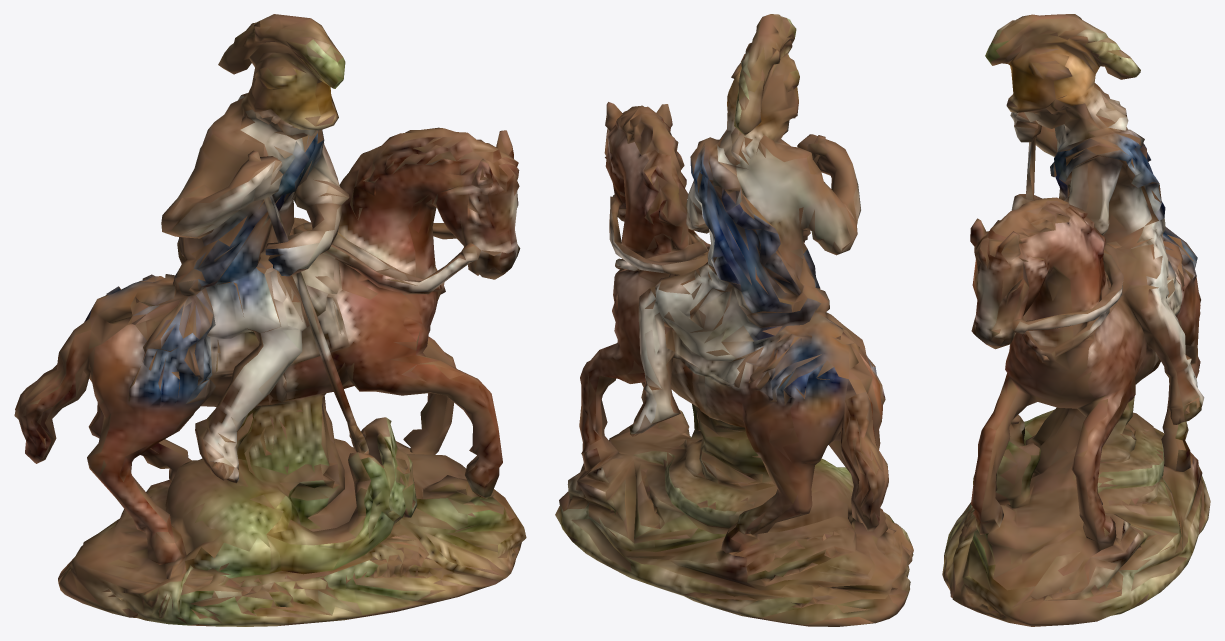
Rendered from st-george-20177414.glb.
The picture shows the model from 3 angles, left to right: view 1: azimuth 30°, elevation 25°; view 2: azimuth 150°, elevation 25°; view 3: azimuth 270°, elevation 25°; orthographic projection. The views are drawn at different scales.
Parts seen in each view (by area): view 1: Mesh; view 2: Mesh; view 3: Mesh.
Part boxes in pixels (left/top/right/bottom): Mesh: left=14, top=14, right=526, bottom=626; Mesh: left=555, top=14, right=913, bottom=626; Mesh: left=942, top=14, right=1210, bottom=626.
Bounding box in the file's own units: 0.2033 × 0.2639 × 0.1234.
1 material, 1 textured.
